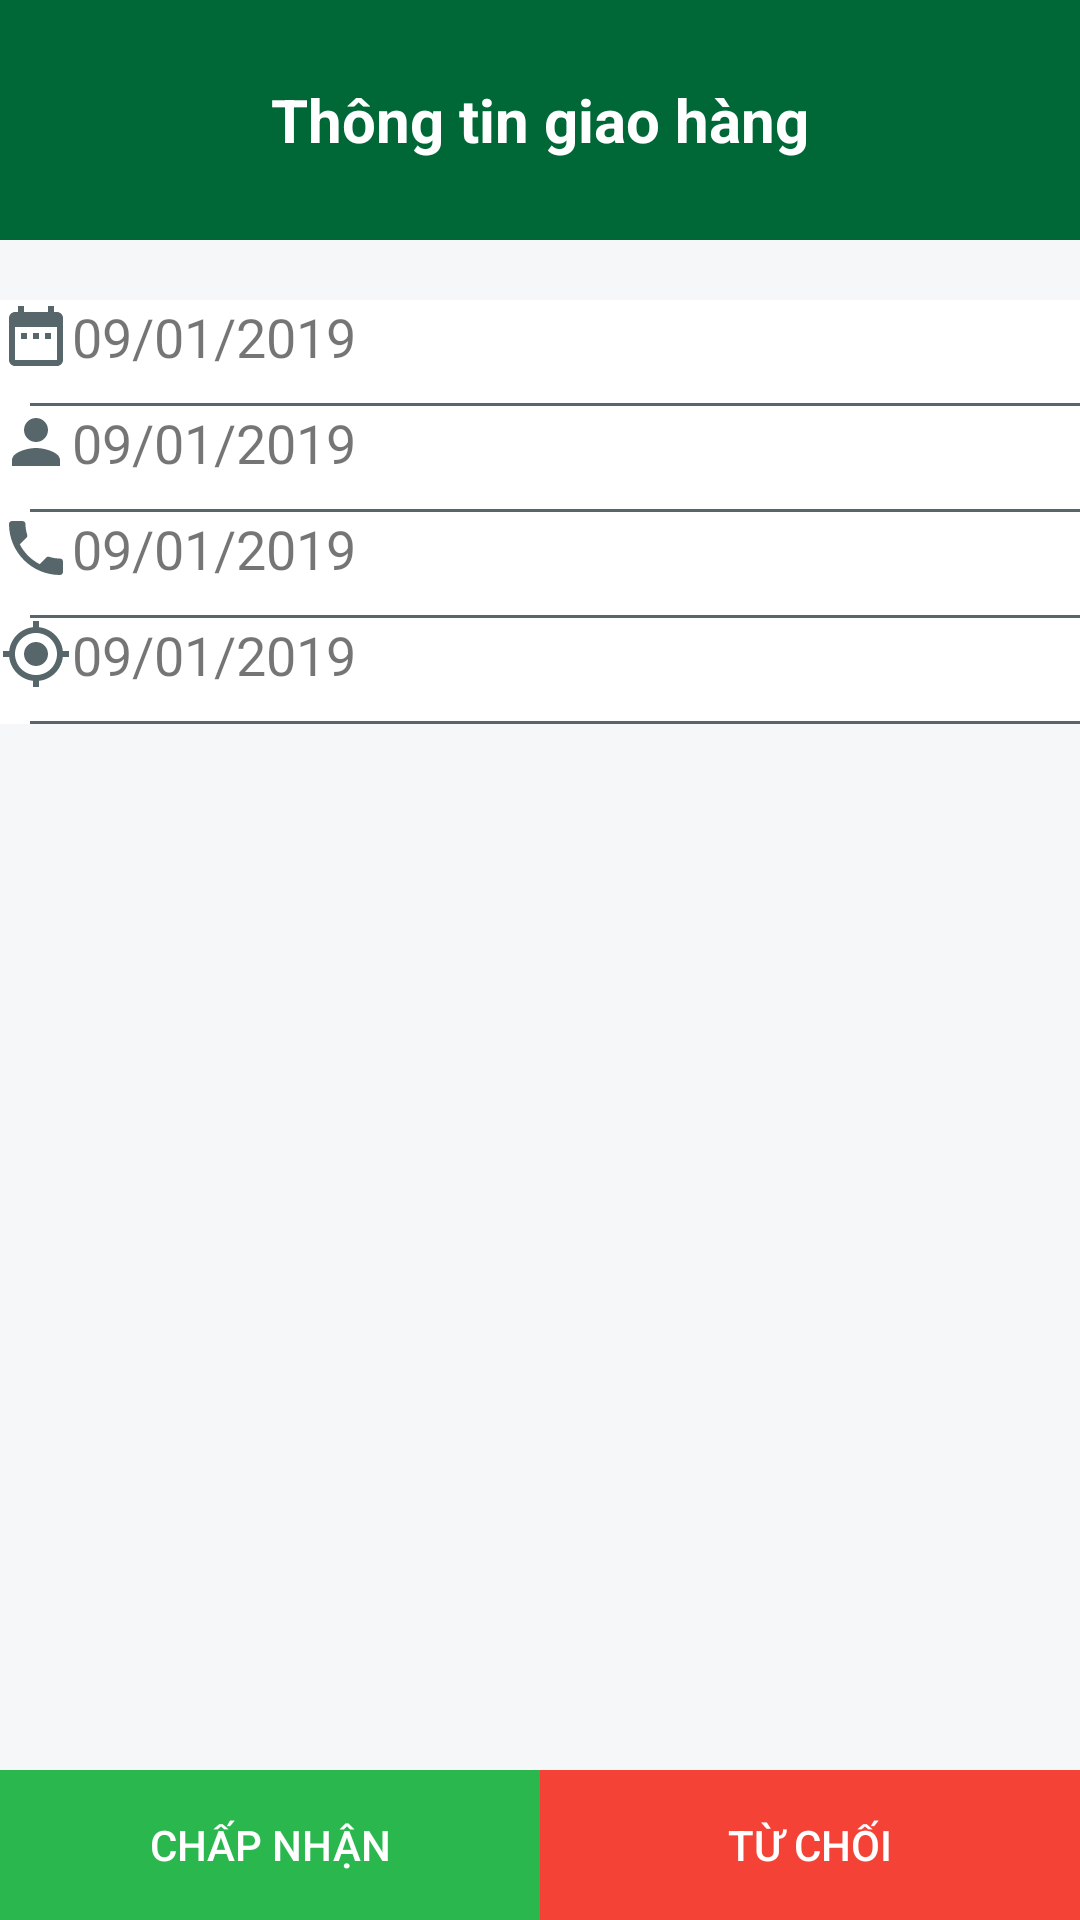

Point at icon controls on the screen. Image size 1080px x 1920px, points as point (x, y).
calendar: point (36, 336)
location: point (36, 654)
person: point (36, 442)
phone: point (36, 548)
